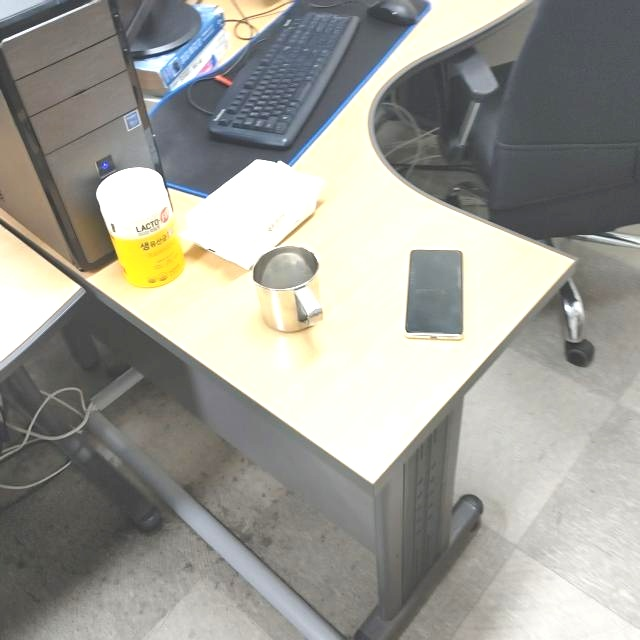cup: (250, 246, 327, 334)
phone: (403, 247, 466, 341)
